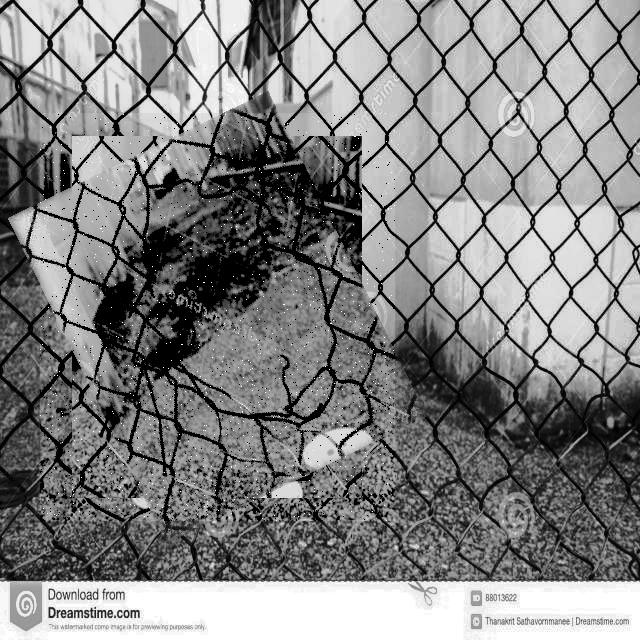anomaly-fence: (40, 113, 395, 521)
